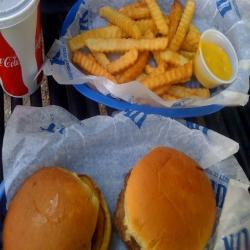burger: (119, 151, 212, 250), (7, 169, 109, 249)
fries: (81, 10, 198, 94)
